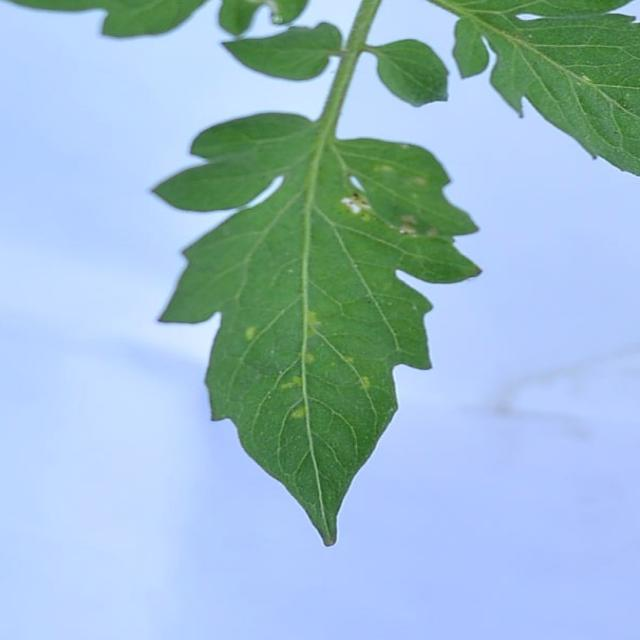infected: (238, 158, 484, 462)
